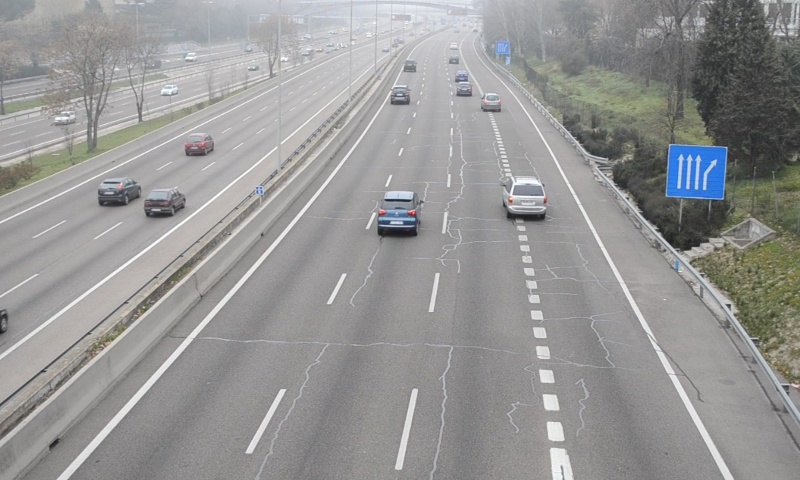car: (376, 190, 420, 232), (504, 176, 546, 216), (389, 84, 410, 106), (481, 92, 500, 112), (455, 81, 473, 96)
